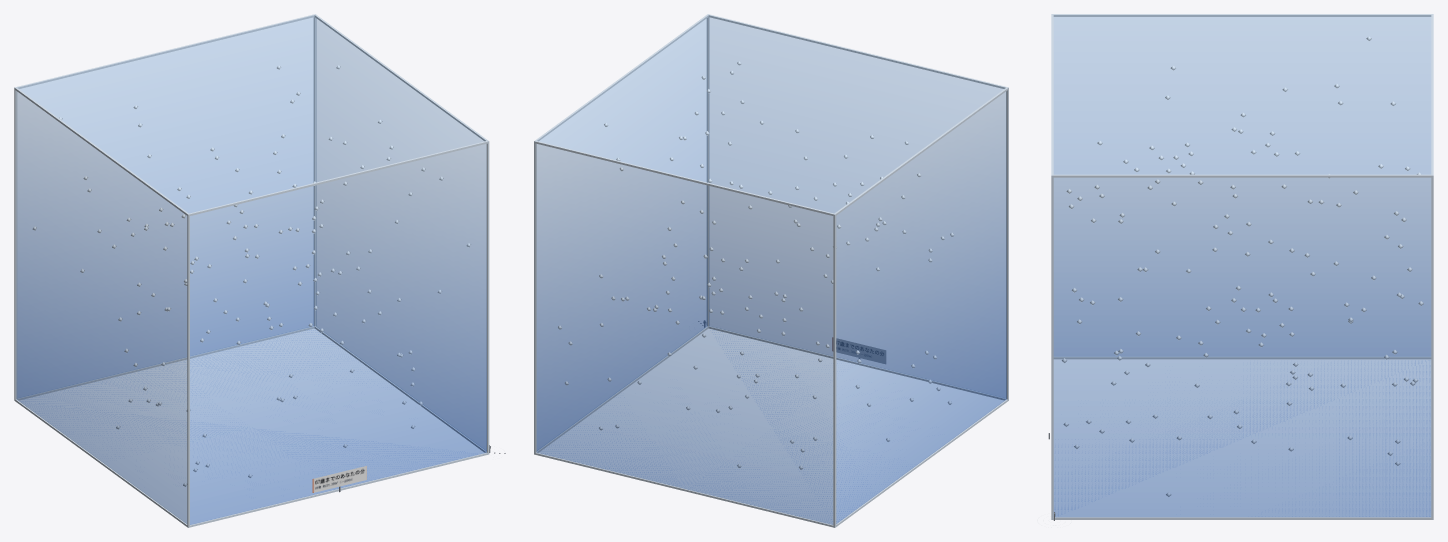
File: cube_life_67.glb
3 views of the same model, side by side, from view 1: azimuth 30°, elevation 25°; view 2: azimuth 150°, elevation 25°; view 3: azimuth 270°, elevation 25° (orthographic). The views are drawn at different scales.
Parts seen in each view (by area): view 1: co2, edge, dots, label; view 2: co2, edge, dots, label; view 3: co2, edge, dots.
Boxes of the visible parts, bbox=[...] form: co2: bbox=[16, 15, 486, 524]; edge: bbox=[14, 14, 489, 527]; dots: bbox=[32, 65, 470, 486]; label: bbox=[312, 466, 366, 492]; co2: bbox=[536, 15, 1006, 524]; edge: bbox=[534, 14, 1008, 527]; dots: bbox=[558, 61, 954, 469]; label: bbox=[832, 337, 885, 363]; co2: bbox=[1053, 15, 1431, 516]; edge: bbox=[1051, 14, 1433, 519]; dots: bbox=[1062, 36, 1423, 496].
Bounding box in the file's own units: 70.06 × 66.3 × 69.16.
Materials: 8 (3 with a texture image).
